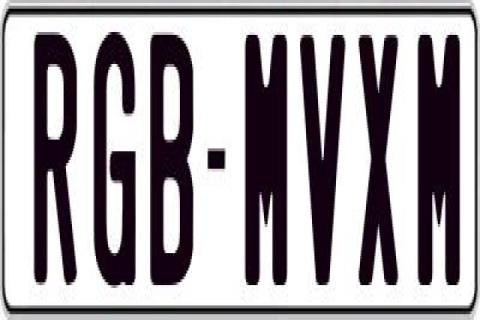B: (150, 32, 198, 288)
G: (92, 26, 138, 291)
M: (414, 26, 460, 294), (241, 29, 288, 291)
R: (33, 27, 80, 286)
V: (298, 27, 344, 286)
X: (358, 32, 404, 285)
